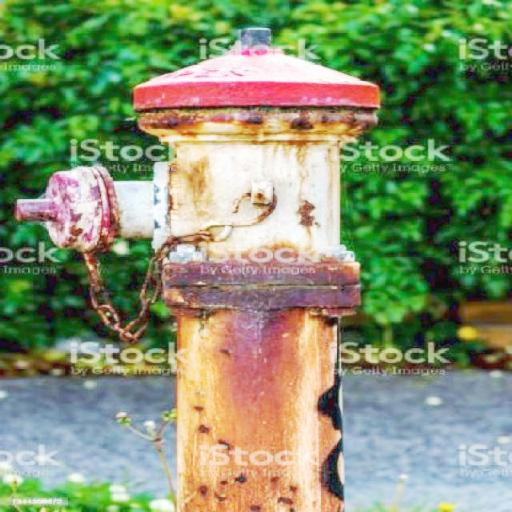corrosion: (178, 323, 341, 512), (162, 262, 362, 322), (138, 109, 384, 140)
